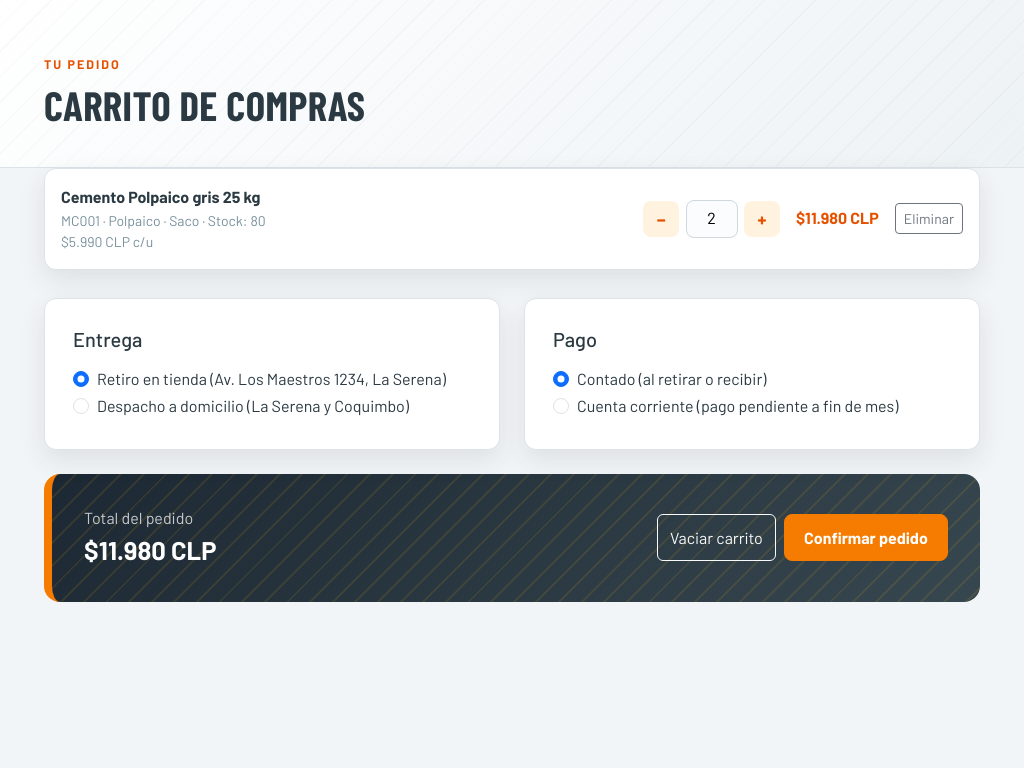
it: Página del Carrito › registra el pedido en la API y vacía el carrito
This screenshot has width=1024, height=768.
Click the button "Confirmar pedido" at (866, 538), box left=784, top=514, right=948, bottom=561
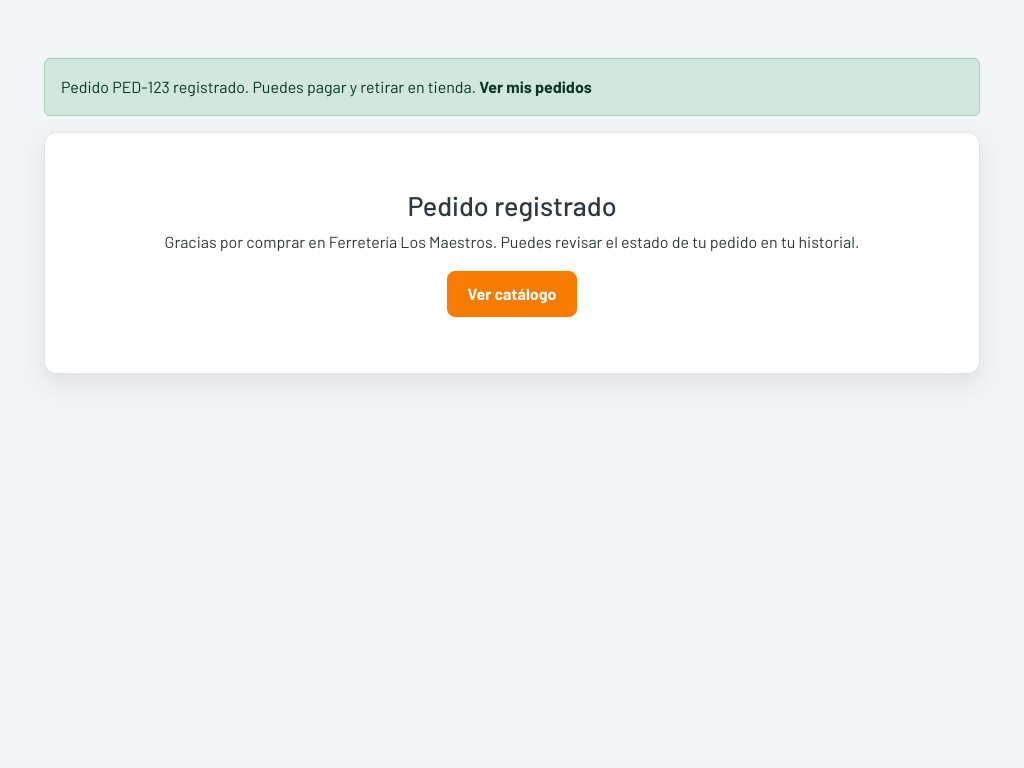
Result: the text "Pedido PED-123 registrado. Puedes pagar y retirar en tienda. Ver mis pedidos" is shown at left=44, top=58, right=980, bottom=116
Result: the heading "Pedido registrado" is shown at left=407, top=189, right=617, bottom=221
